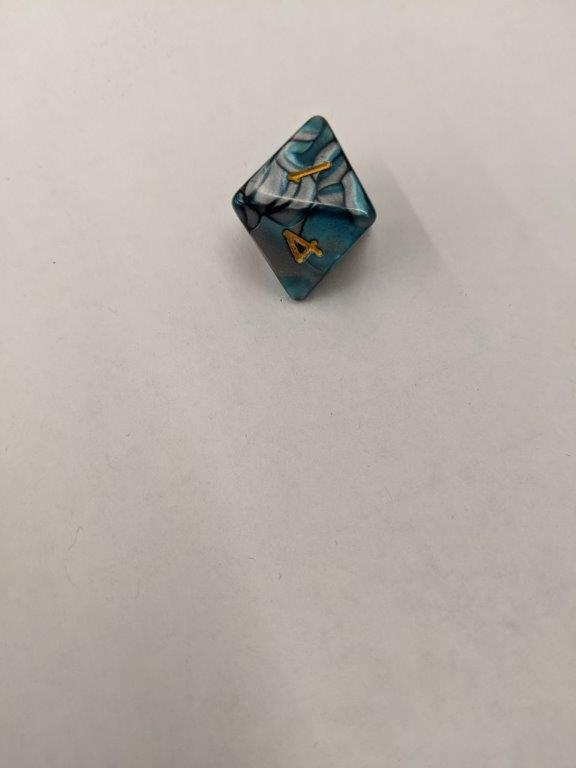d8-1: (231, 114, 379, 304)
